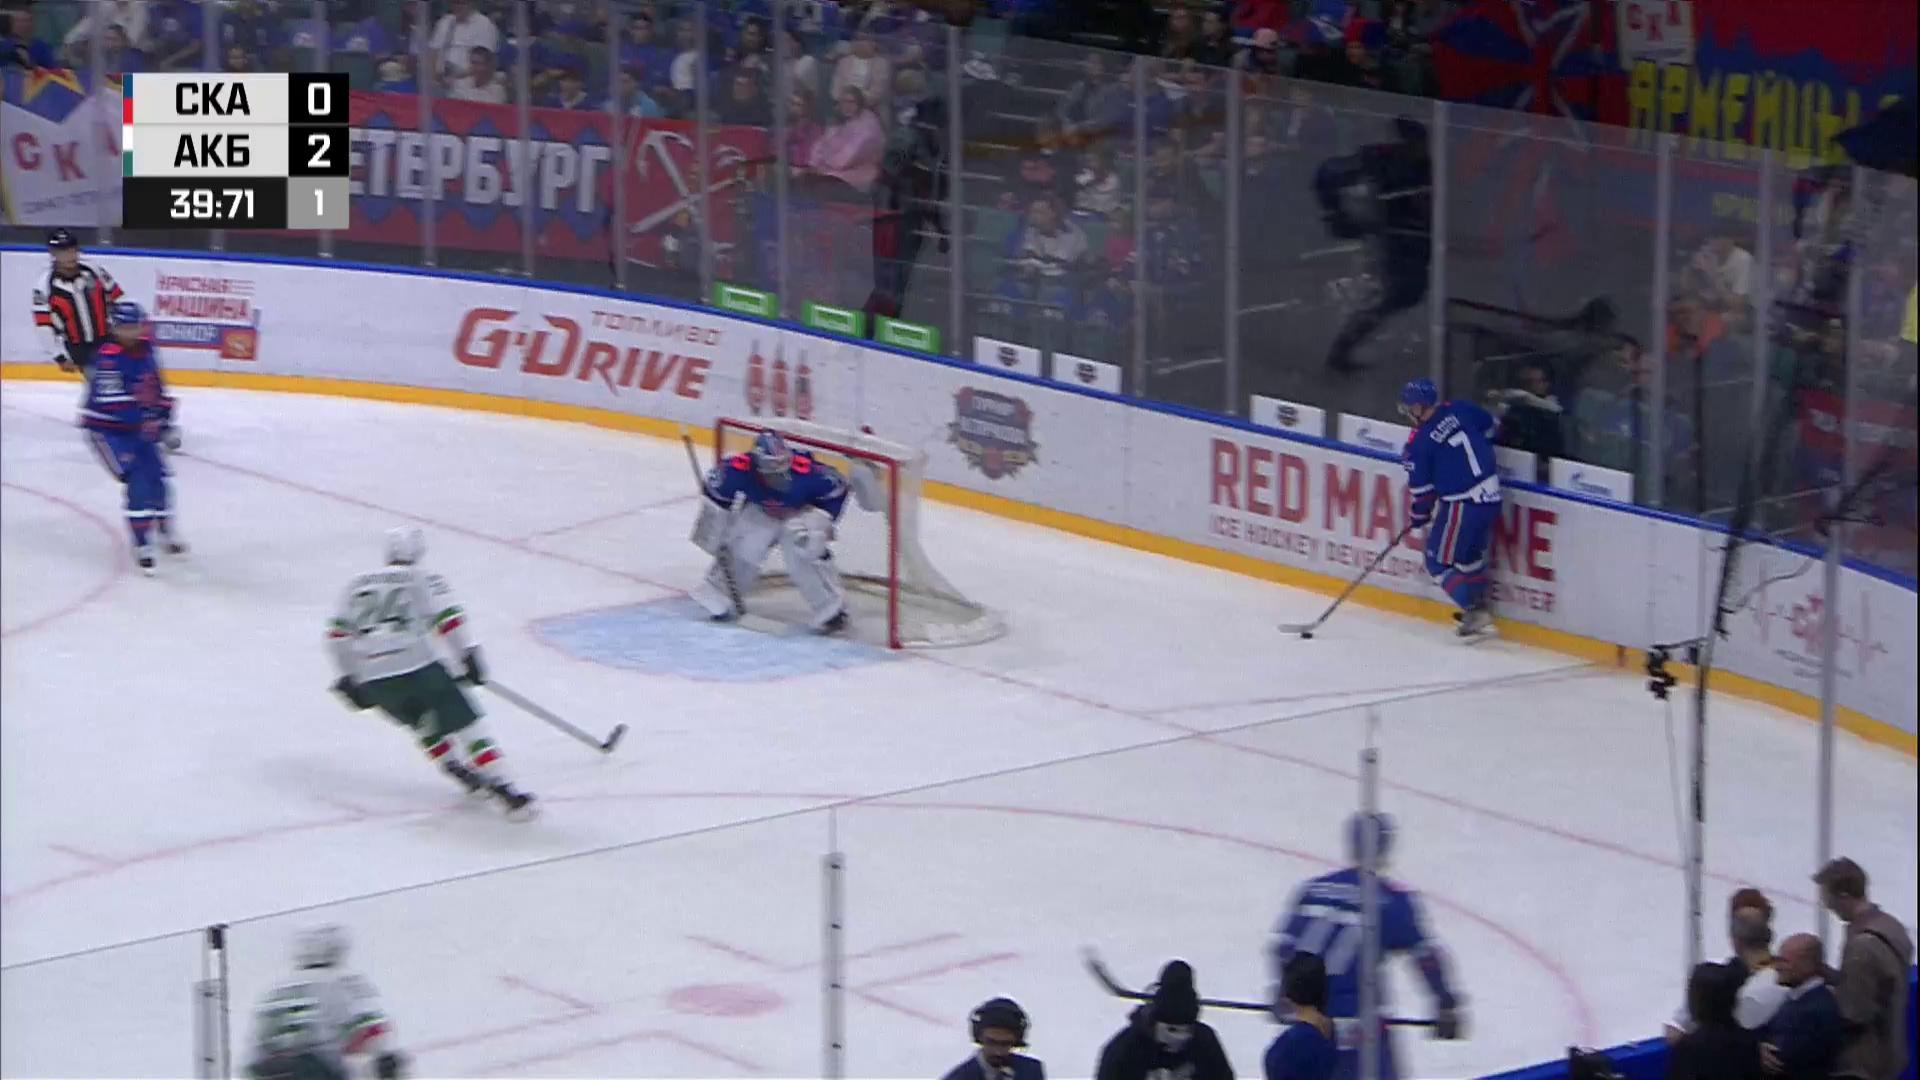ball: (1299, 633, 1313, 640)
